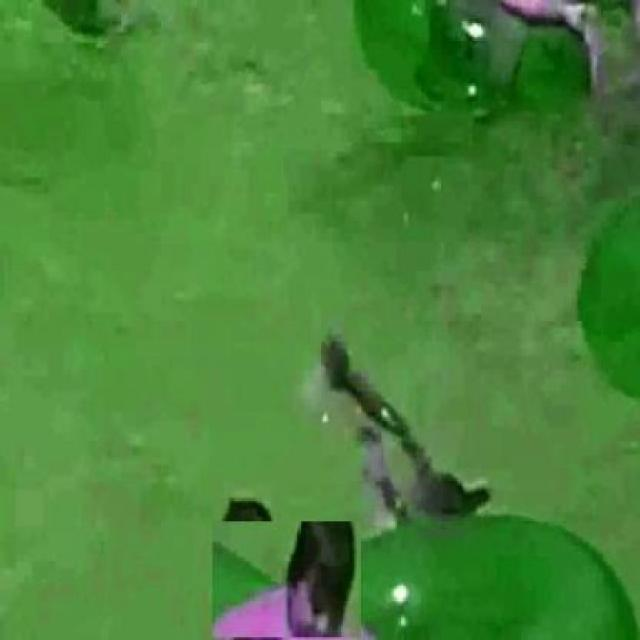drowning: (318, 340, 493, 515), (217, 532, 343, 634)
